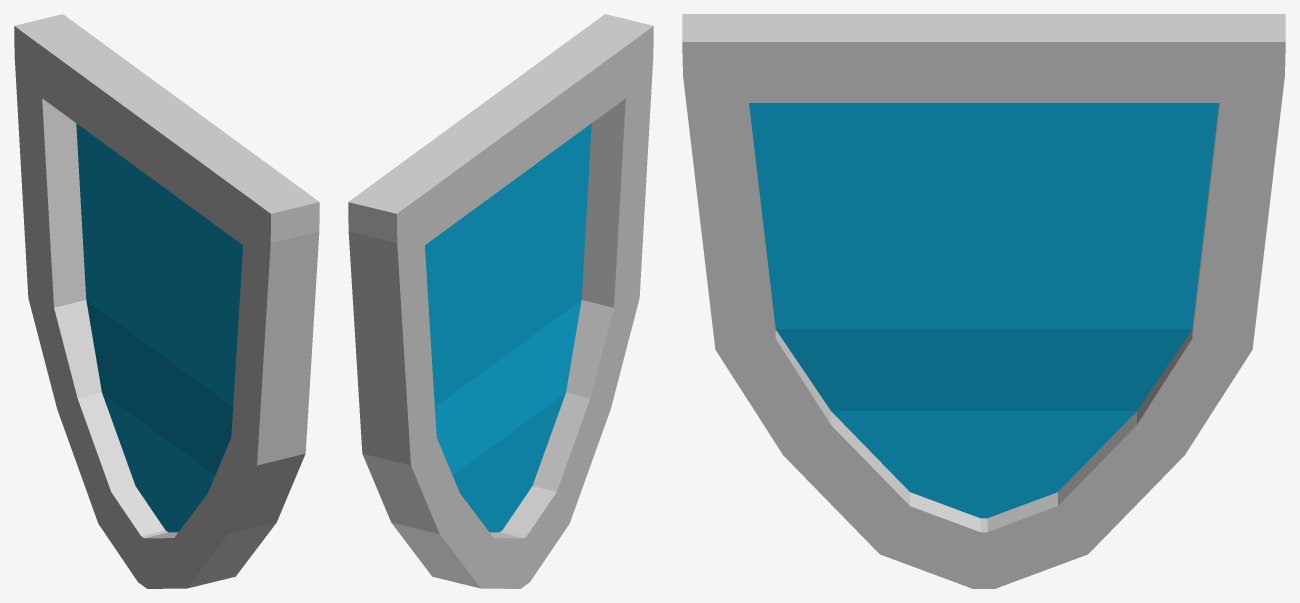
The model's file is shield 1.fbx.
The picture shows the model from 3 angles, left to right: view 1: azimuth 30°, elevation 25°; view 2: azimuth 150°, elevation 25°; view 3: azimuth 270°, elevation 25°; orthographic projection. The views are drawn at different scales.
Visible parts, largest first — view 1: Plane.001; view 2: Plane.001; view 3: Plane.001.
Boxes of the visible parts, x1,y1,x2,y2 form: Plane.001: (14,14,319,588); Plane.001: (348,14,653,588); Plane.001: (682,14,1285,588).
Size of the model in its own units: 1.99 by 18.22 by 18.22.
